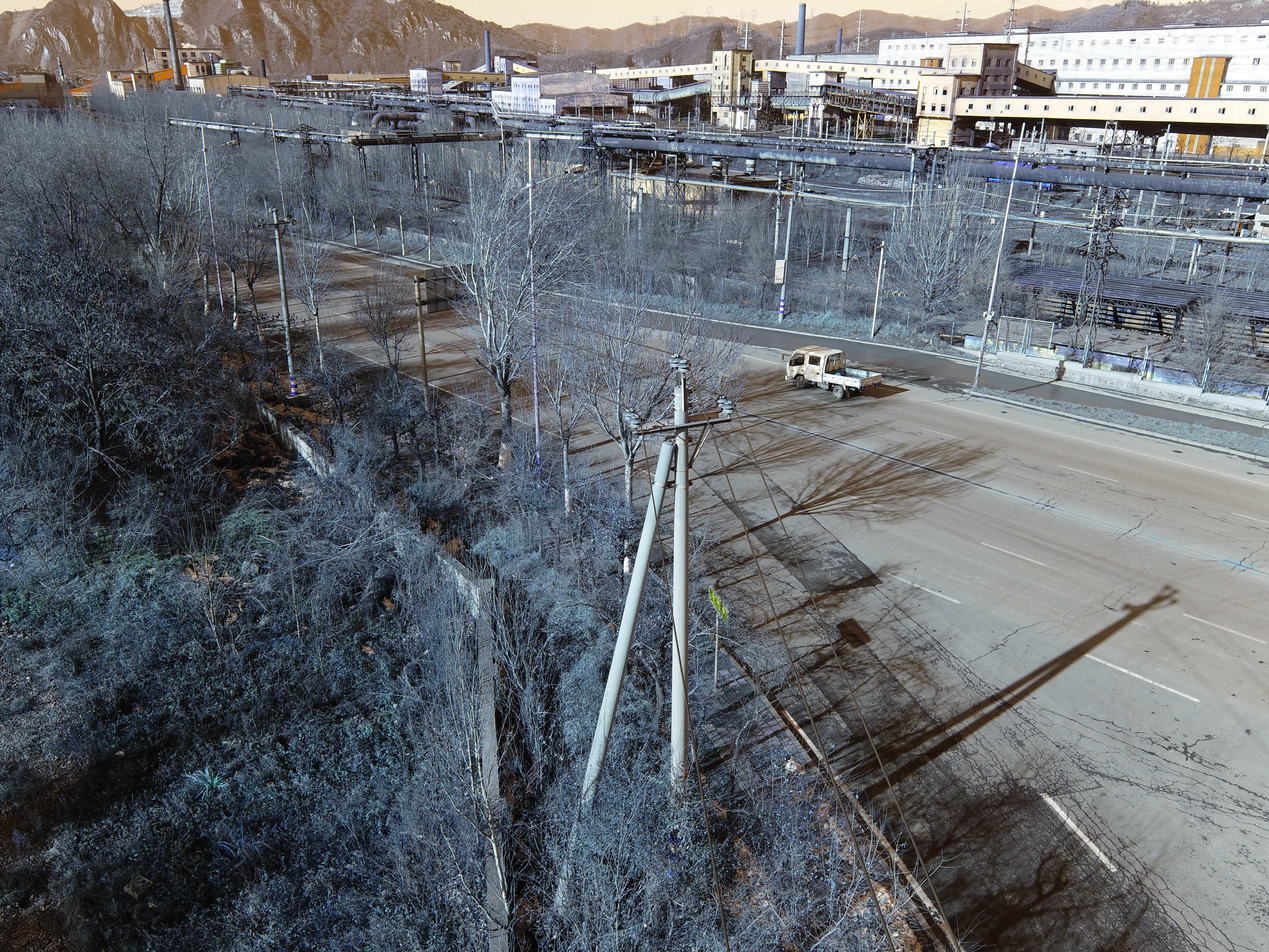severe_soiling_no_discharge_whole: (674, 359, 693, 374), (720, 399, 737, 415), (627, 413, 643, 430), (668, 352, 683, 367), (622, 407, 637, 421), (714, 394, 728, 407)
